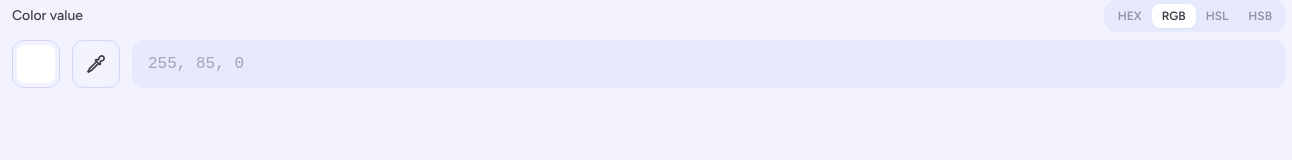
Scenario: ColorInput › reports null and shows an error for an invalid value
Type "300, 0, 0" into the field labelled "Color value".
click(709, 64); type("300, 0, 0")  # box left=132, top=40, right=1286, bottom=88
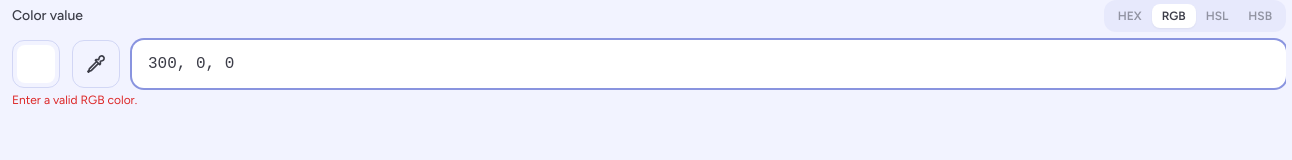
Expected: the text "Enter a valid RGB color." is shown, left=12, top=93, right=137, bottom=107
